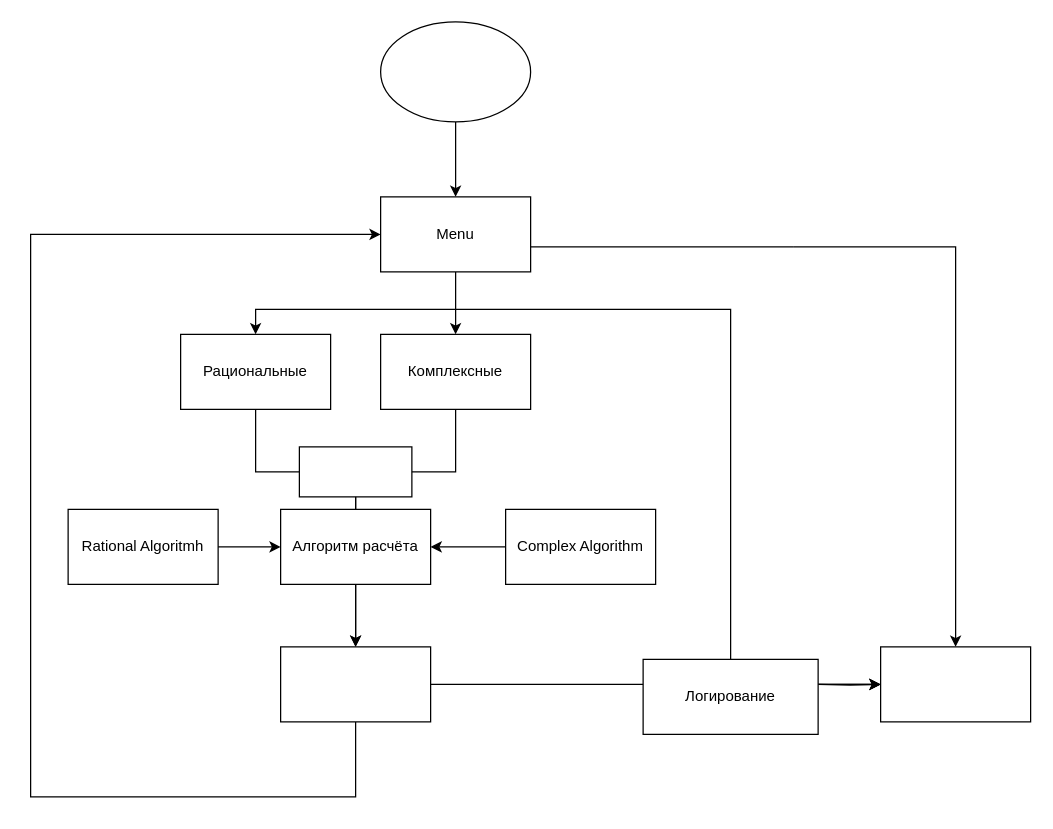
This 1053x829 diagram has some shape labels left out. Each missing label, with the box of its shape:
start: (379, 21, 531, 122)
Ввод данных: (298, 446, 412, 497)
Вывод результата: (279, 646, 431, 722)
Выход: (879, 646, 1031, 722)
